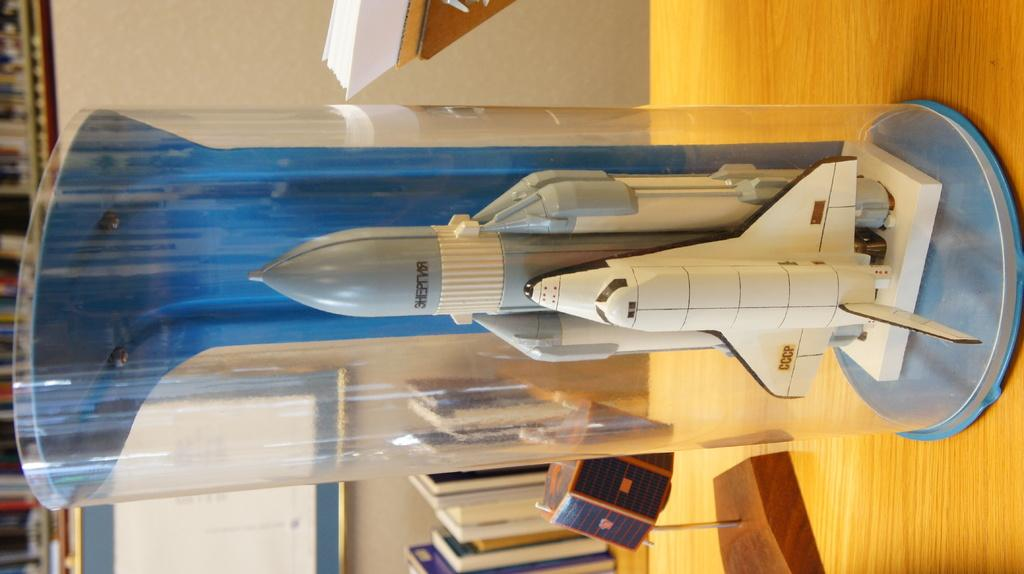Luggage-and-bags: (12, 97, 1019, 510)
